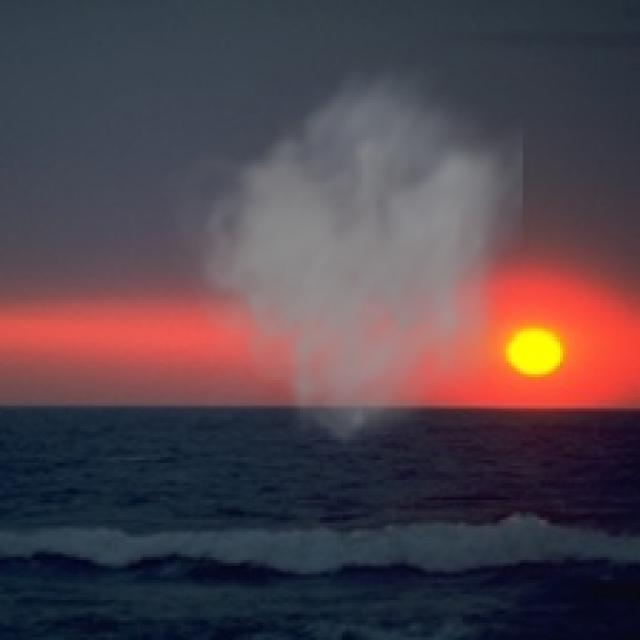smoke: (160, 51, 523, 463)
